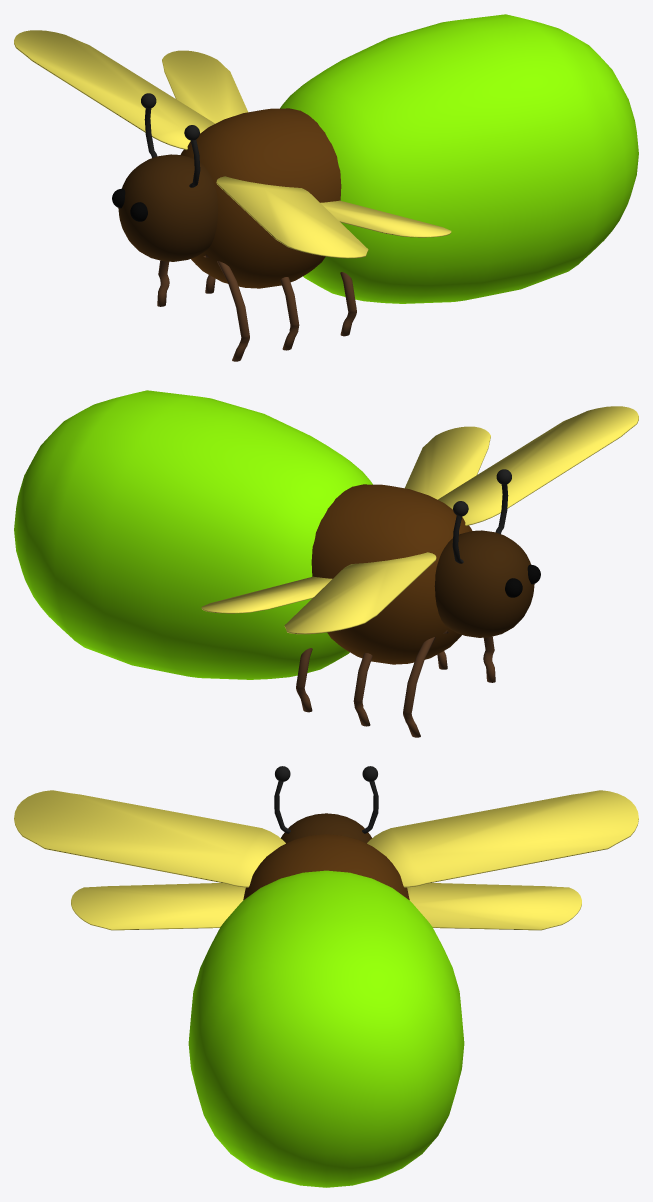
The model's file is FireFly.fbx.
3 renders of one model, top to bottom at view 1: azimuth 30°, elevation 25°; view 2: azimuth 150°, elevation 25°; view 3: azimuth 270°, elevation 25°, orthographic.
Visible parts, largest first — view 1: Cube, Circle.001, Cube.001, Cube.002, Cylinder.003, Cylinder, Sphere.001; view 2: Cube, Circle.001, Cube.001, Cube.002, Cylinder.003, Cylinder, Sphere.001; view 3: Cube, Circle.001, Cube.001, Cube.002, Cylinder.
Boxes of the visible parts, box(x1,y1,x2,y2) form: Cube: box(280, 14, 638, 303); Circle.001: box(14, 30, 451, 258); Cube.001: box(180, 108, 341, 288); Cube.002: box(118, 154, 218, 261); Cylinder.003: box(157, 254, 356, 361); Cylinder: box(144, 108, 200, 187); Sphere.001: box(112, 188, 147, 221); Cube: box(14, 390, 372, 679); Circle.001: box(201, 406, 638, 634); Cube.001: box(311, 484, 472, 664); Cube.002: box(434, 530, 534, 637); Cylinder.003: box(296, 630, 495, 737); Cylinder: box(452, 484, 508, 563); Sphere.001: box(505, 564, 540, 597); Cube: box(188, 870, 464, 1187); Circle.001: box(14, 790, 638, 930); Cube.001: box(243, 834, 409, 899); Cube.002: box(281, 813, 371, 843); Cylinder: box(274, 781, 378, 833).
Bounding box in the file's own units: 612 × 292 × 661.
